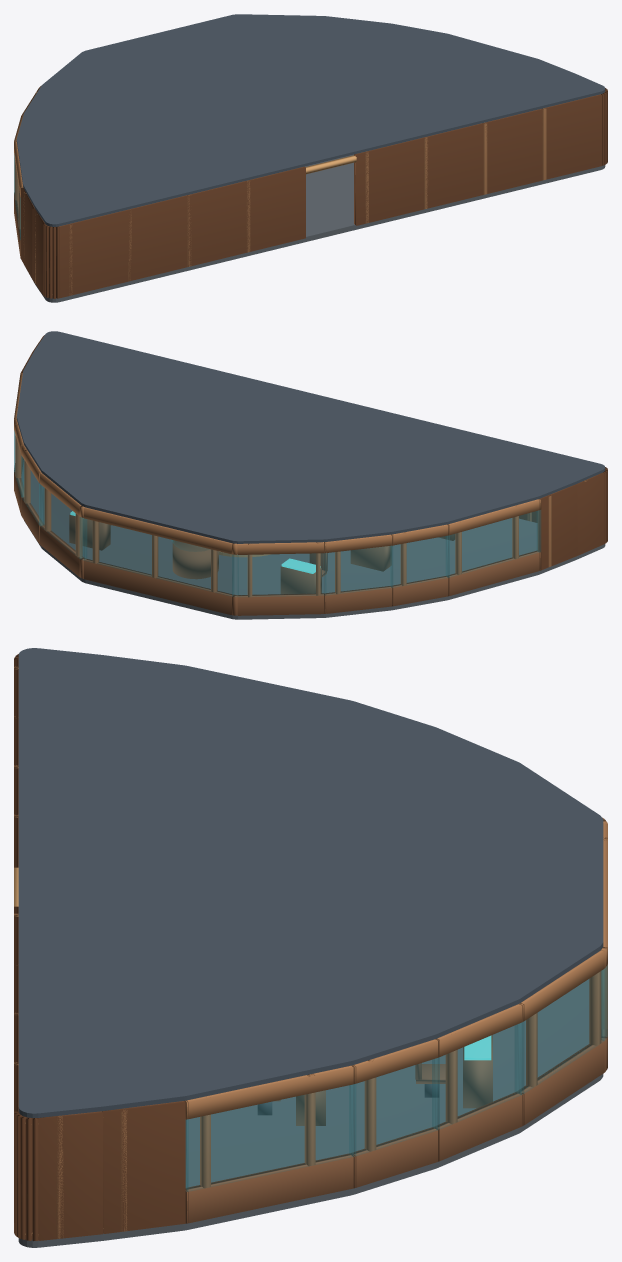
The model's file is Command_Bridge.glb.
3 renders of one model, top to bottom at view 1: azimuth 30°, elevation 25°; view 2: azimuth 150°, elevation 25°; view 3: azimuth 270°, elevation 25°, orthographic. The views are drawn at different scales.
Parts seen in each view (by area): view 1: Ceiling_panel, Wall (×4), Command_Bridge_floor, Door_header; view 2: Ceiling_panel, Bridge_wall (×20), Command_Bridge_floor, Wall (×2), Console_body (×3), Navigator_plinth; view 3: Ceiling_panel, Bridge_wall (×12), Command_Bridge_floor, Wall (×7), Rib (×6), Console_body.
Boxes of the visible parts, x1,y1,x2,y2 form: Ceiling_panel: (16, 14, 605, 226); Wall (×4): (21, 94, 601, 297); Command_Bridge_floor: (32, 154, 605, 302); Door_header: (305, 155, 356, 174); Ceiling_panel: (16, 331, 605, 543); Bridge_wall (×20): (21, 457, 539, 615); Command_Bridge_floor: (21, 462, 605, 619); Wall (×2): (537, 472, 604, 570); Console_body (×3): (69, 515, 391, 594); Navigator_plinth: (172, 540, 218, 579); Ceiling_panel: (18, 648, 603, 1117); Bridge_wall (×12): (186, 950, 604, 1223); Command_Bridge_floor: (18, 979, 603, 1247); Wall (×7): (14, 659, 185, 1241); Rib (×6): (200, 971, 601, 1188); Console_body: (463, 1035, 492, 1108).
Size of the model in its own units: 26.6 by 3.55 by 14.23.
